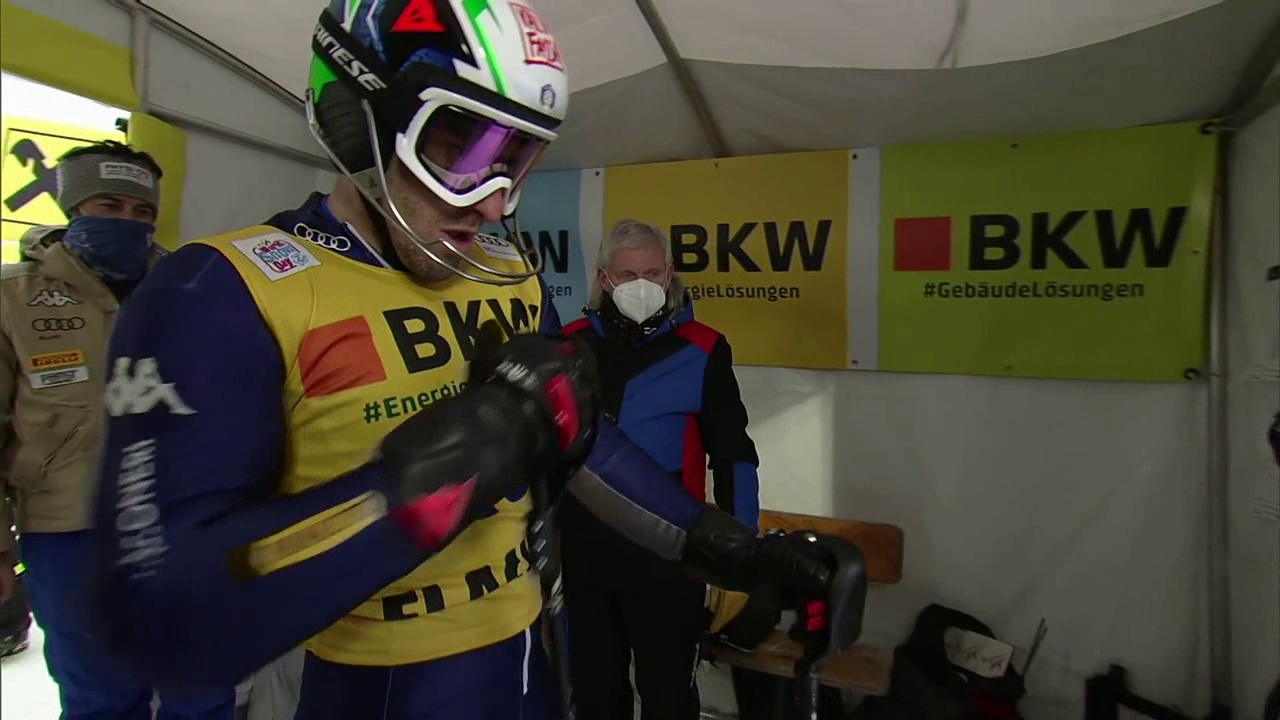audi: (28, 314, 88, 337)
raiffeisen: (1, 128, 70, 226)
